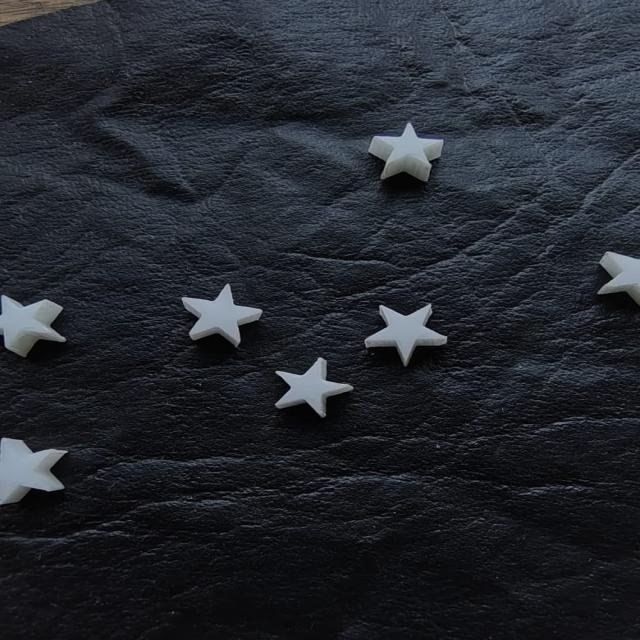estrellas: (182, 284, 262, 342), (367, 304, 446, 361), (275, 358, 347, 413), (374, 122, 443, 165)
